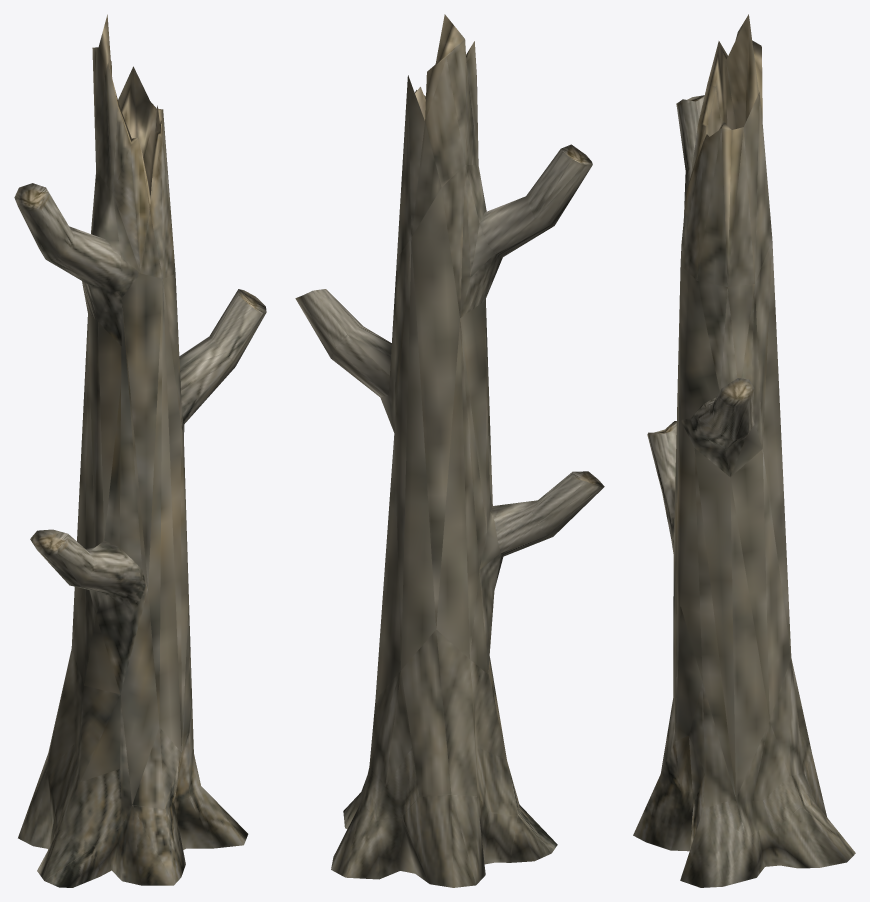
The model's file is tree-dead-02.glb.
3 renders of one model, left to right at view 1: azimuth 30°, elevation 25°; view 2: azimuth 150°, elevation 25°; view 3: azimuth 270°, elevation 25°, orthographic. The views are drawn at different scales.
Size of the model in its own units: 0.3252 by 0.9551 by 0.2358.
1 material, 1 textured.
